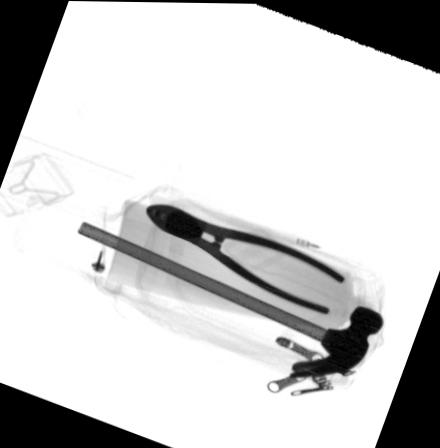Hammer: (78, 218, 384, 378)
Pliers: (143, 202, 344, 313)
